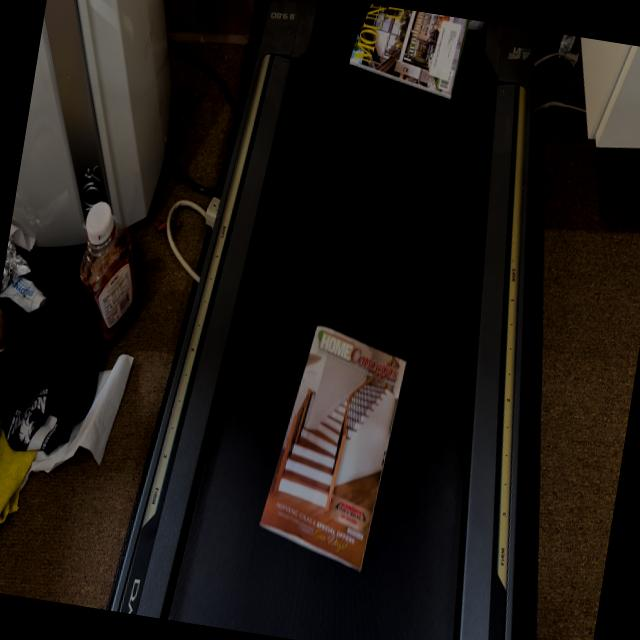Recycle: (263, 305, 436, 594), (338, 2, 502, 122)
